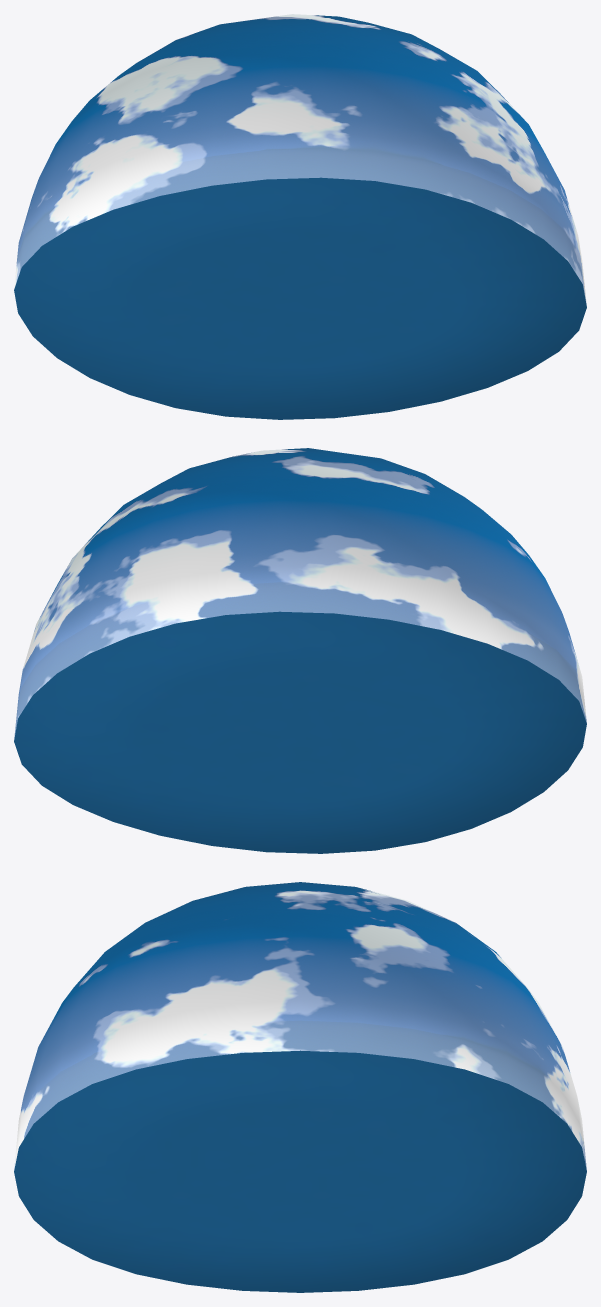
File: Sky.glb
The picture shows the model from 3 angles, top to bottom: view 1: azimuth 30°, elevation 25°; view 2: azimuth 150°, elevation 25°; view 3: azimuth 270°, elevation 25°; orthographic projection.
Parts seen in each view (by area): view 1: Sky; view 2: Sky; view 3: Sky.
Boxes of the visible parts, x1,y1,x2,y2 form: Sky: (14, 14, 586, 419); Sky: (14, 448, 586, 853); Sky: (14, 882, 586, 1292).
Bounding box in the file's own units: 104 × 51.79 × 104.
1 material, 1 textured.
